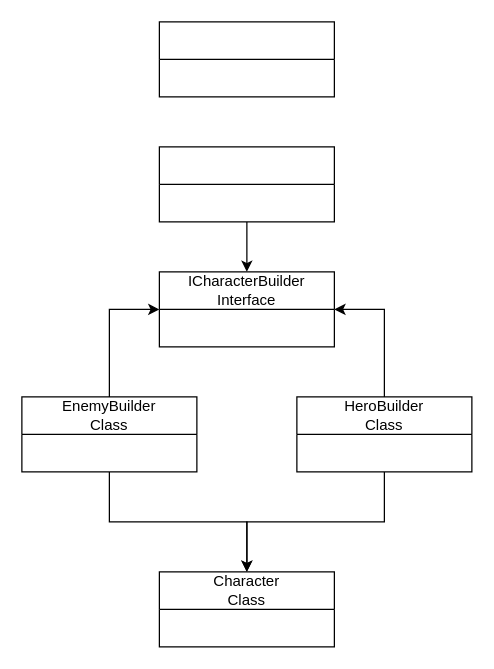
Some shapes in this 494 by 669 pixel diagram are drawn without their labels. The centre of each missing label's shape, as x and y in pixels:
"CharacterDirector Class" belongs at pixel 246 184.
"Program Class" belongs at pixel 246 59.
